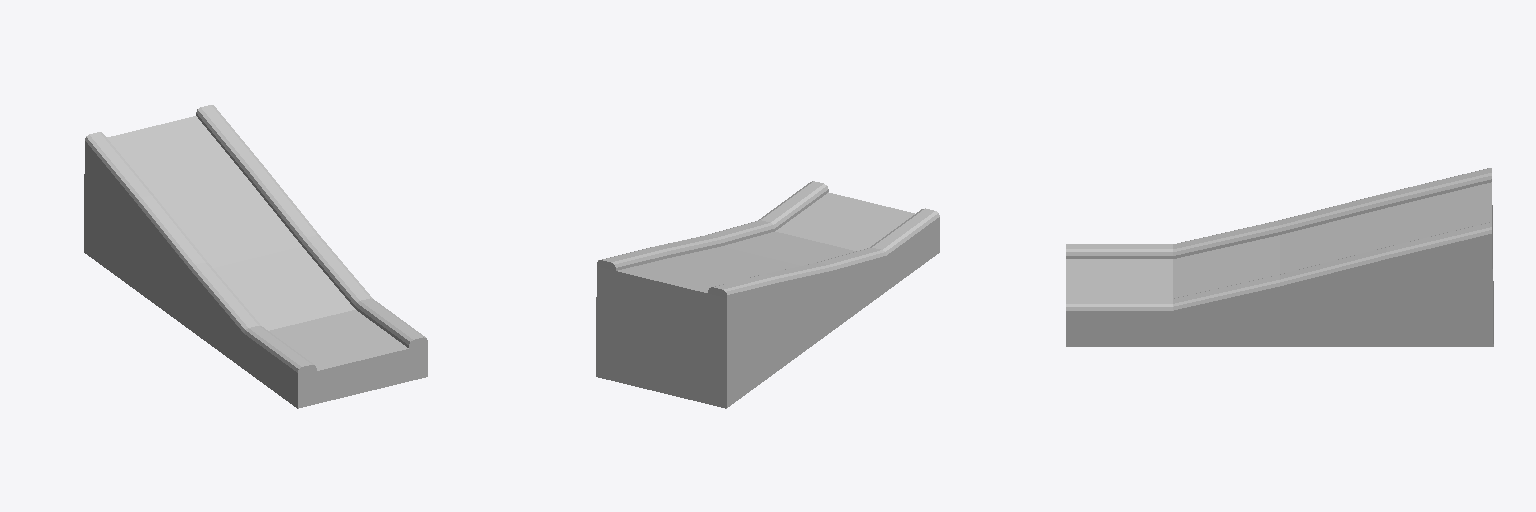
Rendered from PLATAFROMA_SUBIDA_1_escala.obj.
3 views of the same model, side by side, from view 1: azimuth 30°, elevation 25°; view 2: azimuth 150°, elevation 25°; view 3: azimuth 270°, elevation 25° (orthographic).
Parts seen in each view (by area): view 1: pasted__pCube2 group3; view 2: pasted__pCube2 group3; view 3: pasted__pCube2 group3.
Part boxes in pixels (x1,y1,x2,y2): pasted__pCube2 group3: (84, 105, 427, 408); pasted__pCube2 group3: (596, 181, 939, 408); pasted__pCube2 group3: (1066, 168, 1493, 346).
Size of the model in its own units: 212 by 182 by 600.